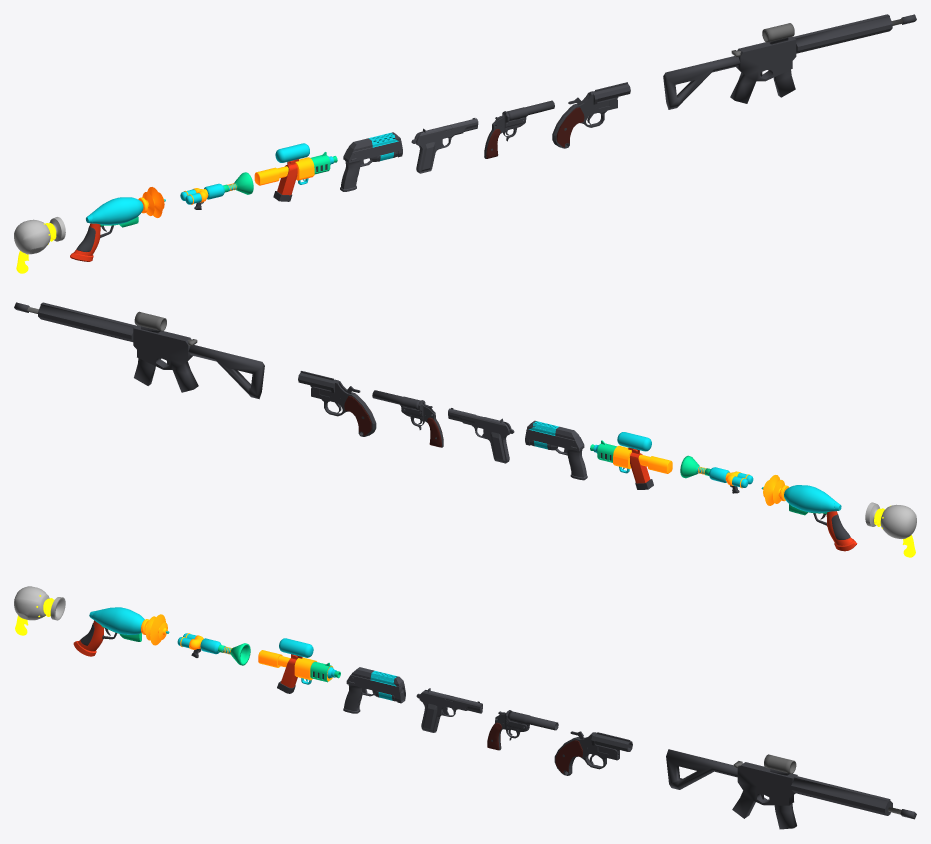
File: Gun 1.fbx
3 renders of one model, top to bottom at view 1: azimuth 30°, elevation 25°; view 2: azimuth 150°, elevation 25°; view 3: azimuth 330°, elevation 25°, orthographic.
Parts seen in each view (by area): view 1: AR15, Gun.004, Paint Gun.001, Revolver, Gun.005, Blob Paint Gun, Glock, Revolver.001, Paint Gun; view 2: AR15, Gun.004, Paint Gun.001, Revolver, Gun.005, Blob Paint Gun, Glock, Revolver.001, Paint Gun; view 3: AR15, Gun.004, Paint Gun.001, Revolver, Gun.005, Blob Paint Gun, Glock, Revolver.001, Paint Gun.
Part boxes in pixels (left/top/right/bottom): AR15: left=663, top=14, right=916, bottom=109; Gun.004: left=70, top=187, right=165, bottom=261; Paint Gun.001: left=254, top=143, right=337, bottom=201; Revolver: left=552, top=82, right=630, bottom=148; Gun.005: left=340, top=132, right=402, bottom=191; Blob Paint Gun: left=14, top=217, right=65, bottom=273; Glock: left=411, top=118, right=478, bottom=173; Revolver.001: left=484, top=100, right=554, bottom=158; Paint Gun: left=180, top=172, right=253, bottom=209; AR15: left=14, top=302, right=264, bottom=399; Gun.004: left=761, top=475, right=857, bottom=551; Paint Gun.001: left=590, top=432, right=672, bottom=489; Revolver: left=298, top=371, right=376, bottom=436; Gun.005: left=525, top=420, right=587, bottom=480; Blob Paint Gun: left=865, top=502, right=916, bottom=557; Glock: left=448, top=408, right=514, bottom=463; Revolver.001: left=372, top=390, right=443, bottom=447; Paint Gun: left=680, top=455, right=753, bottom=493; AR15: left=666, top=749, right=916, bottom=829; Gun.004: left=73, top=607, right=169, bottom=656; Paint Gun.001: left=258, top=638, right=340, bottom=693; Revolver: left=554, top=731, right=632, bottom=775; Gun.005: left=343, top=667, right=405, bottom=713; Blob Paint Gun: left=14, top=586, right=65, bottom=635; Glock: left=416, top=688, right=482, bottom=732; Revolver.001: left=487, top=710, right=558, bottom=750; Paint Gun: left=177, top=633, right=250, bottom=665.
Bounding box in the file's own units: 38740 × 2890 × 1386.
